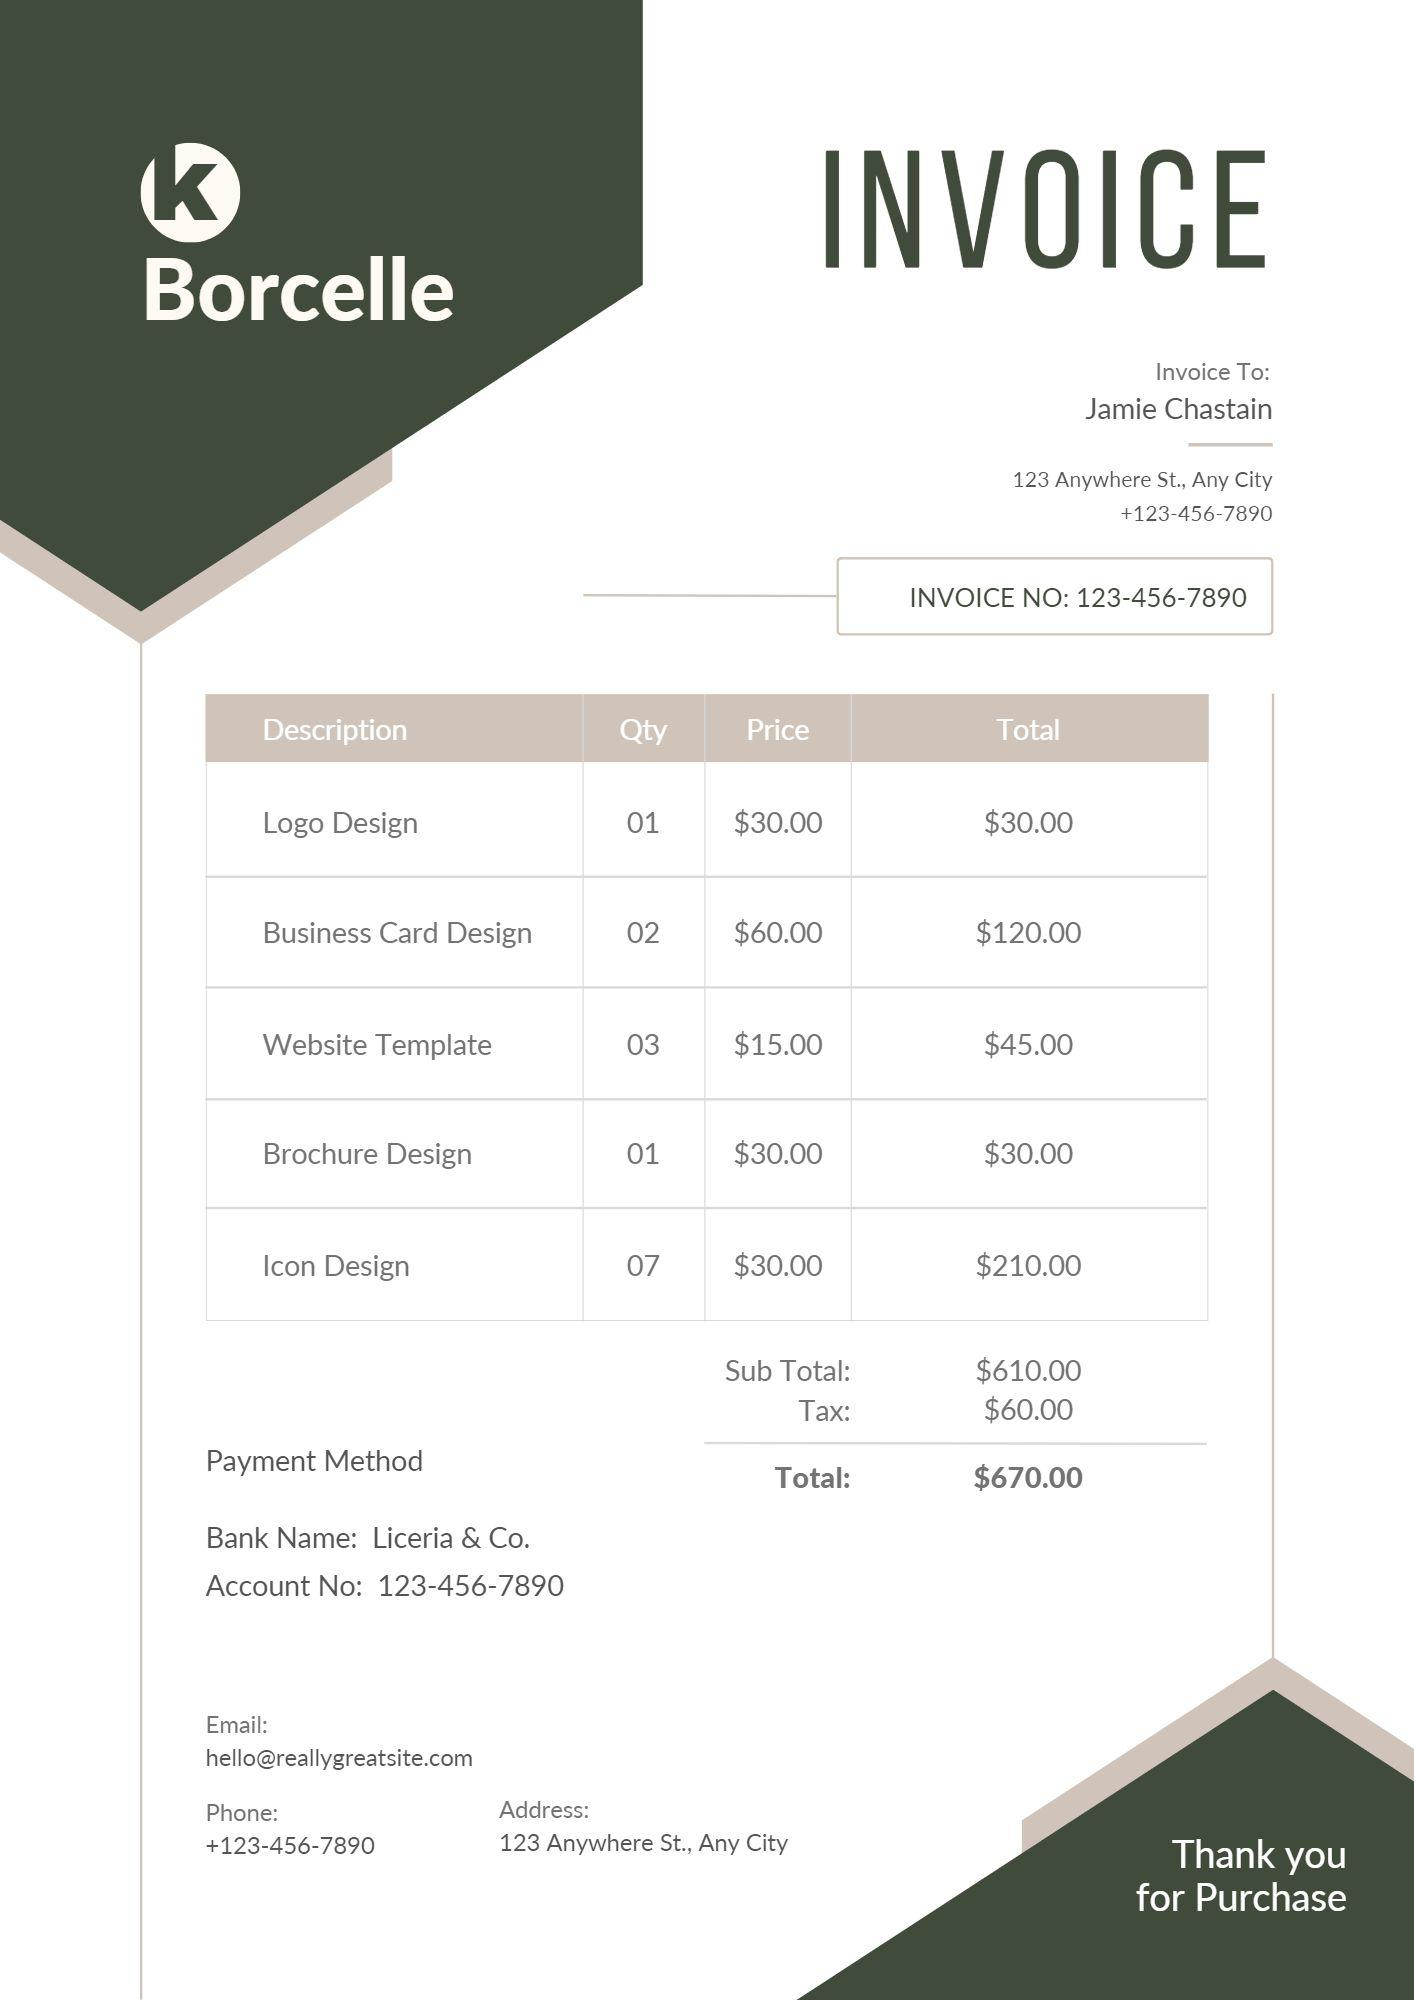ROI: (202, 679, 1226, 1328)
